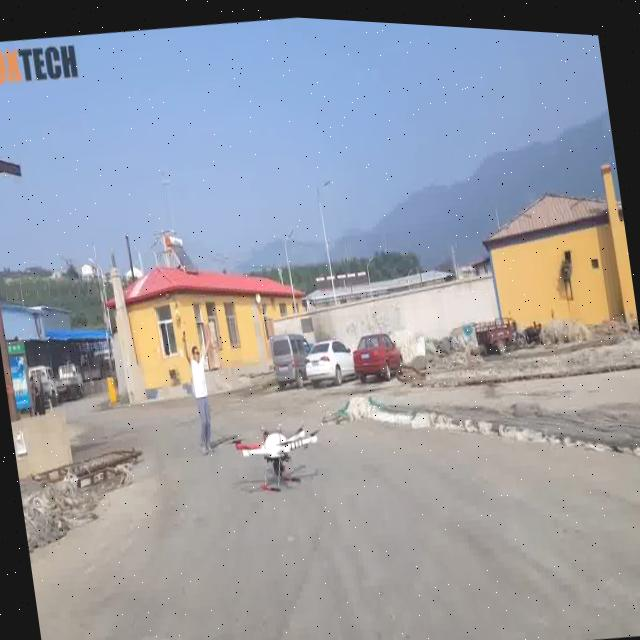drone: (230, 413, 328, 496)
